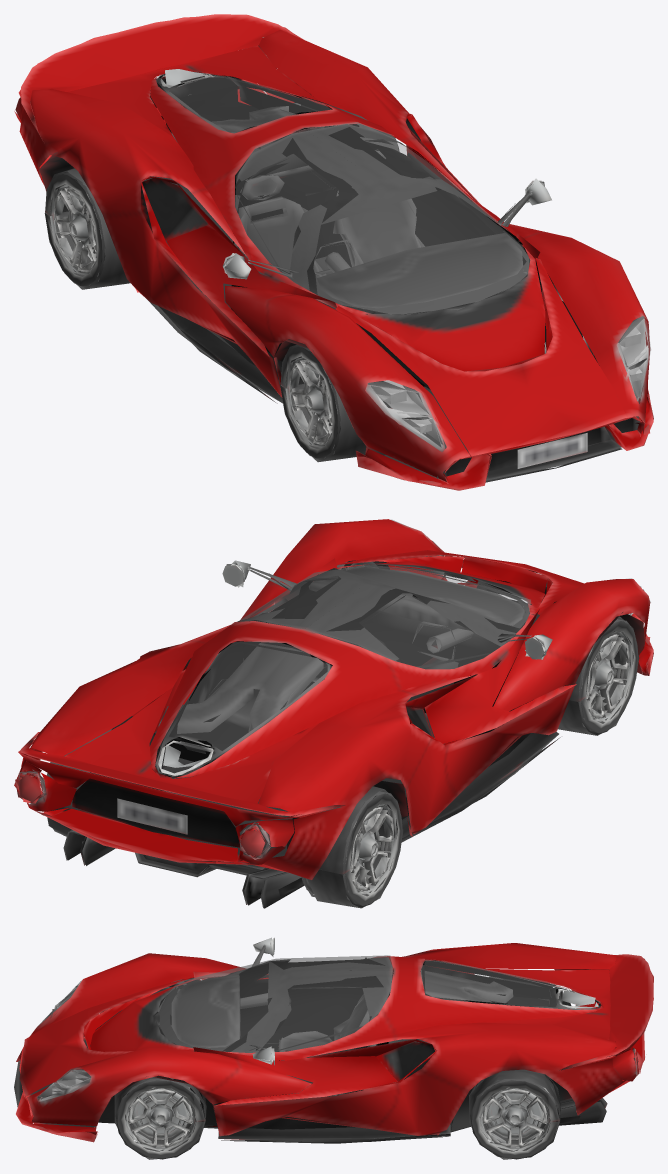
Rendered from de-tomaso-p72-lod2.glb.
The picture shows the model from 3 angles, top to bottom: view 1: azimuth 30°, elevation 25°; view 2: azimuth 150°, elevation 25°; view 3: azimuth 270°, elevation 25°; orthographic projection. The views are drawn at different scales.
Parts seen in each view (by area): view 1: Traffic_body, Traffic_RL, Traffic_FL; view 2: Traffic_body, Traffic_RL, Traffic_FL; view 3: Traffic_body, Traffic_RR, Traffic_FR.
Boxes of the visible parts, x1,y1,x2,y2 form: Traffic_body: (14,14,653,490); Traffic_RL: (44,168,130,289); Traffic_FL: (280,343,366,462); Traffic_body: (14,519,653,908); Traffic_RL: (301,786,403,908); Traffic_FL: (558,616,639,735); Traffic_body: (14,937,653,1147); Traffic_RR: (469,1069,560,1159); Traffic_FR: (114,1077,206,1159).
Size of the model in its own units: 1.99 by 1.06 by 4.55.
1 material, 1 textured.
